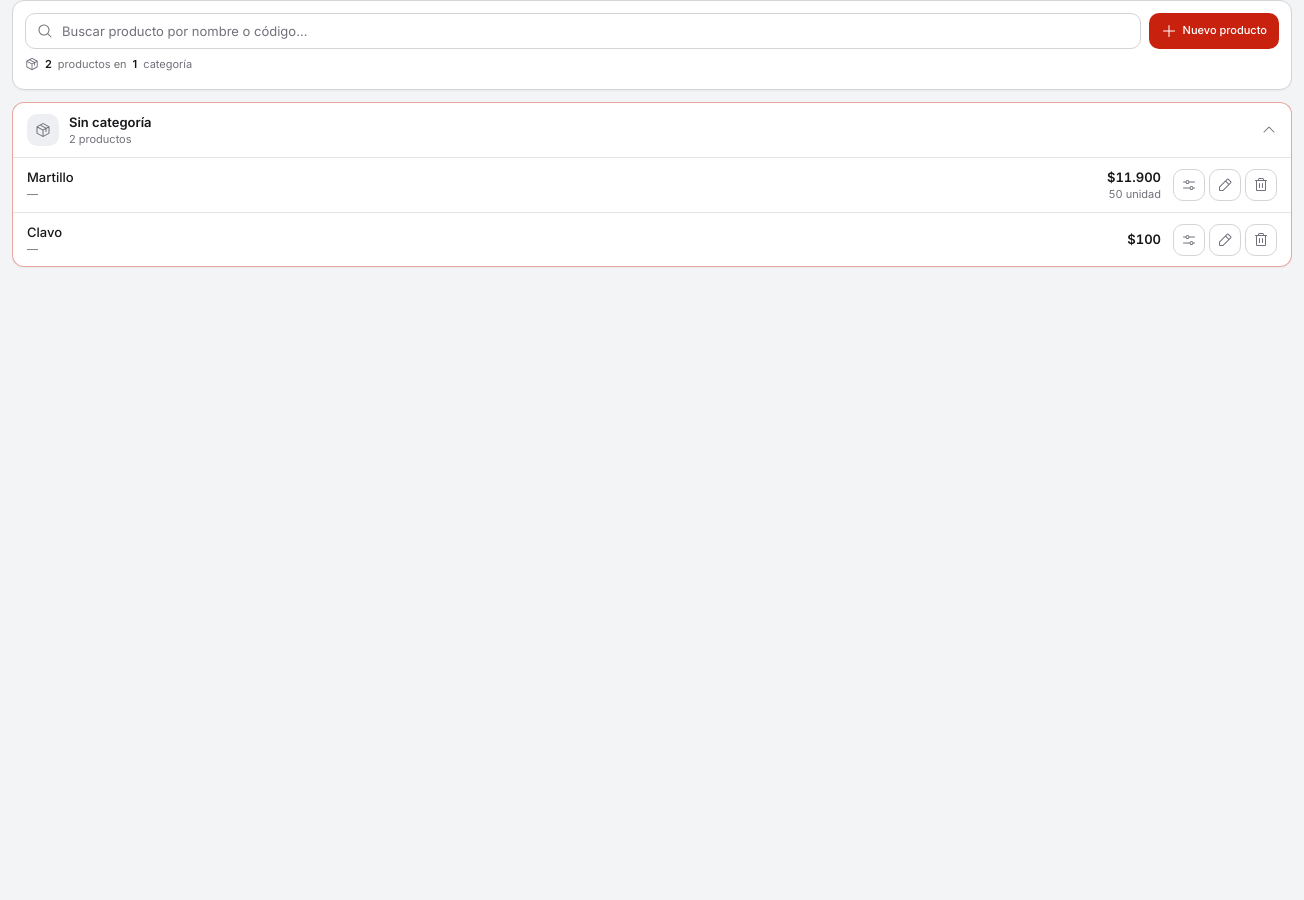
Scenario: TabInventario — CRUD (admin) › si no hay proveedores, avisa que se registren en el tab Proveedores
expect the text "Martillo" is shown: met, box [27,168,74,187]
Click the button "Nuevo producto": [1214, 31] box [1149,13,1279,49]
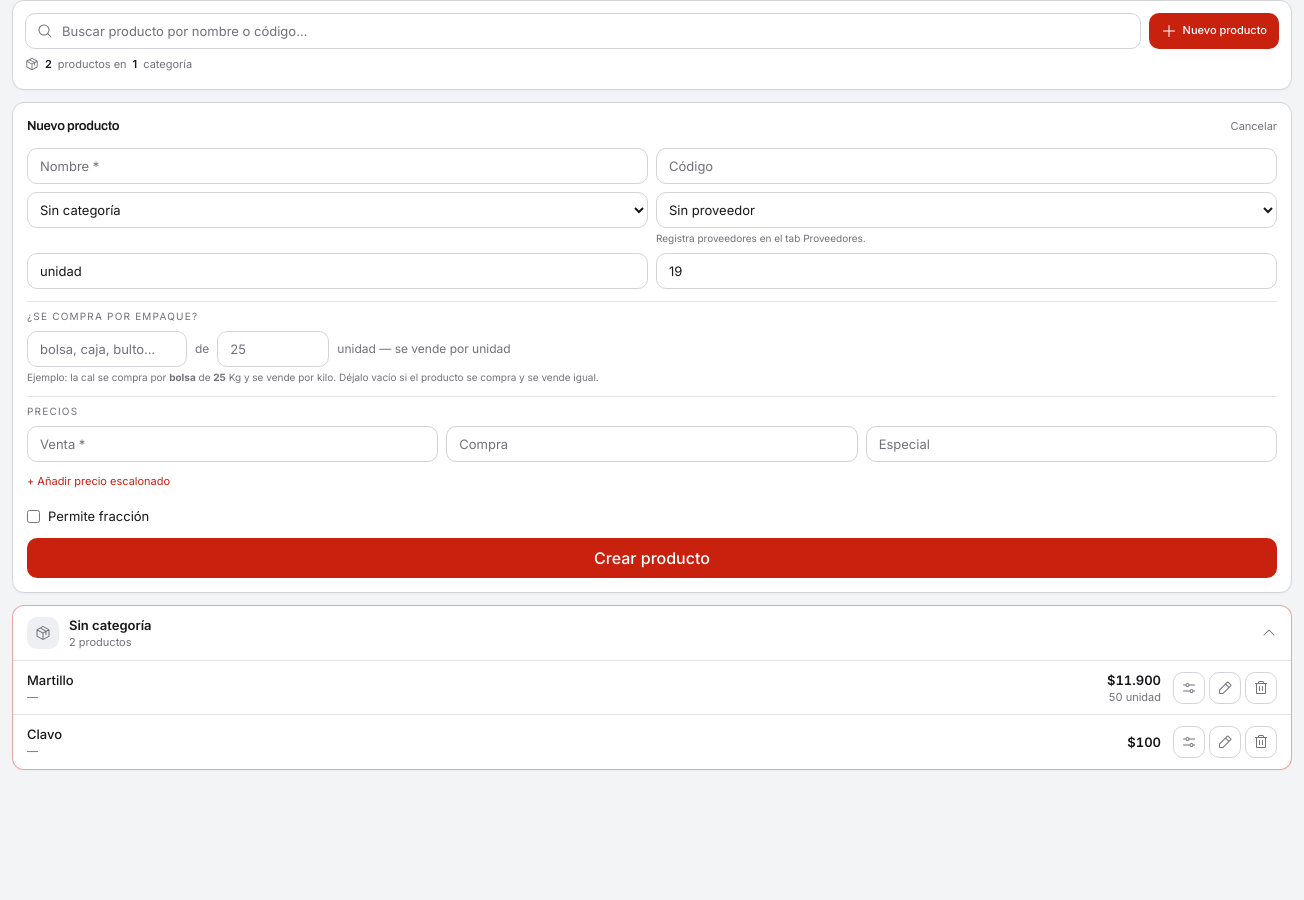
expect the text "Registra proveedores en el tab Proveedores." is shown: met, box [656,232,866,244]
